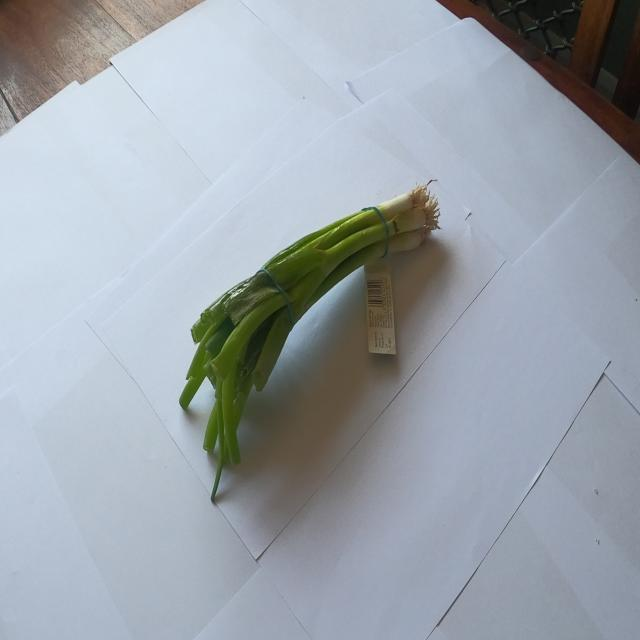Springonion: (158, 162, 454, 528)
